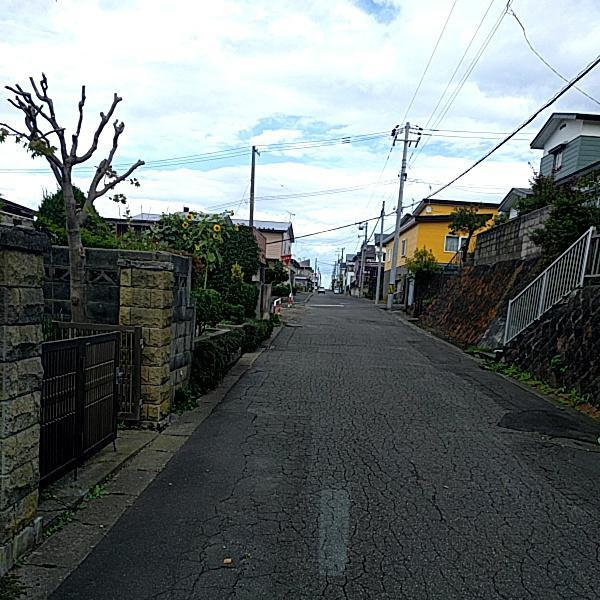D20: (180, 330, 599, 599)
